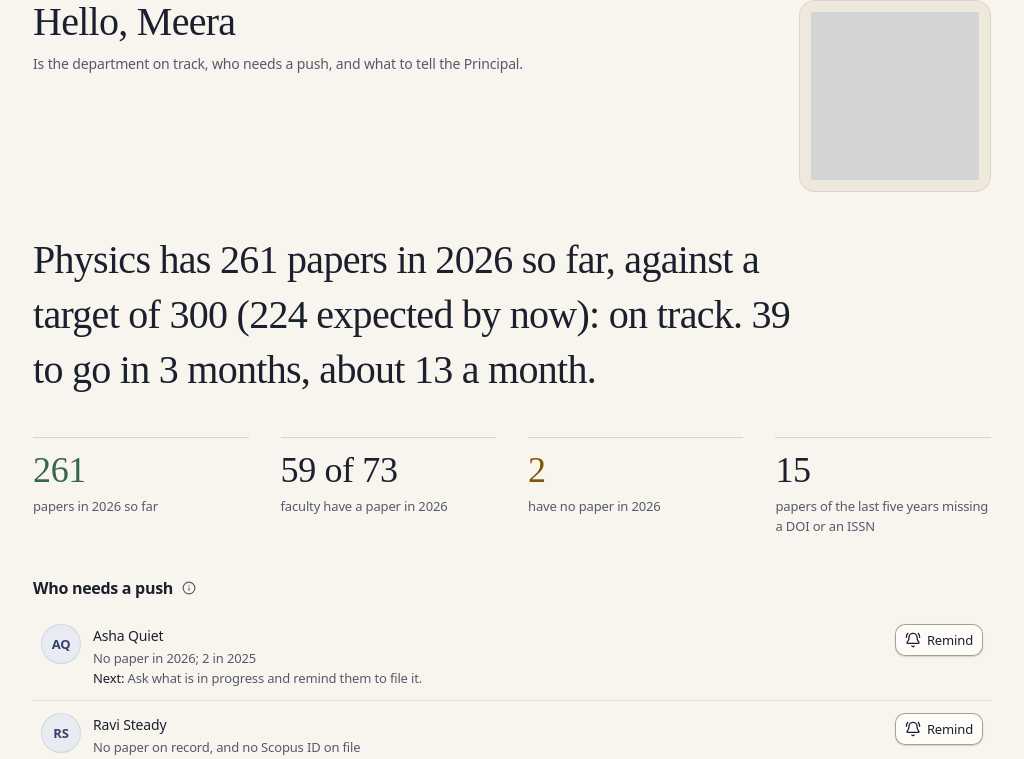
Scenario: HodHome › opens an editable draft before any reminder is sent
What coordinates should you click on to do the following:
click the button with aria-label "Remind Asha Quiet"
I would click on:
 (939, 640)
Its box is left=895, top=624, right=983, bottom=656.
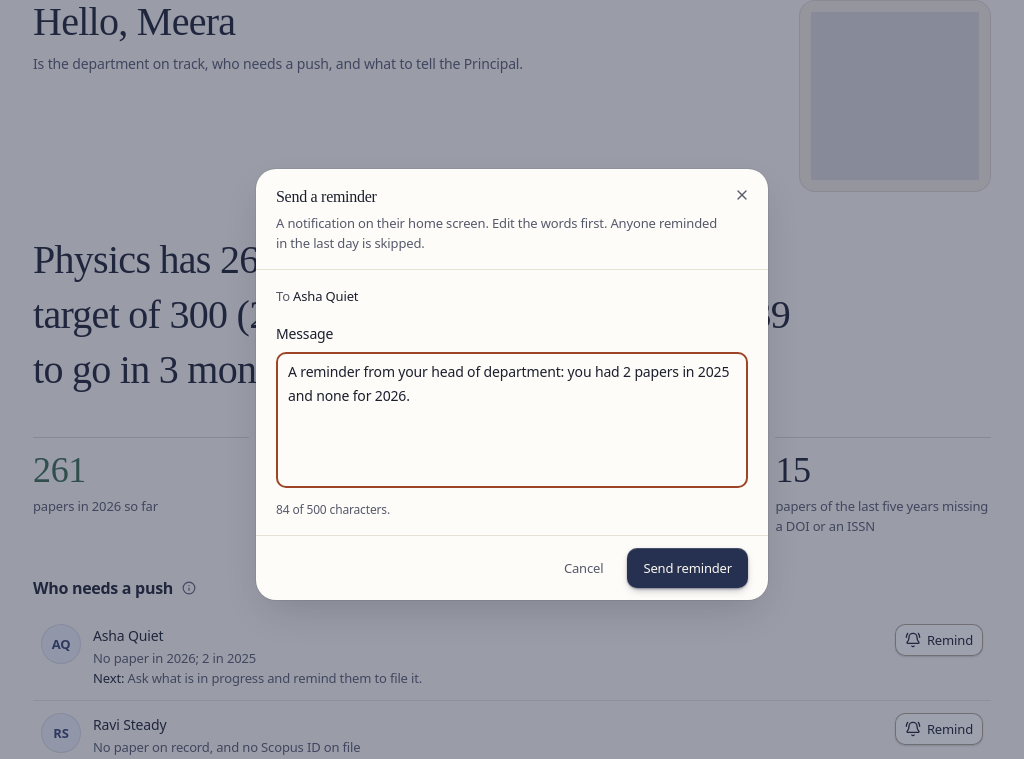
Expected: the button "Send reminder" is enabled, left=627, top=548, right=748, bottom=588
